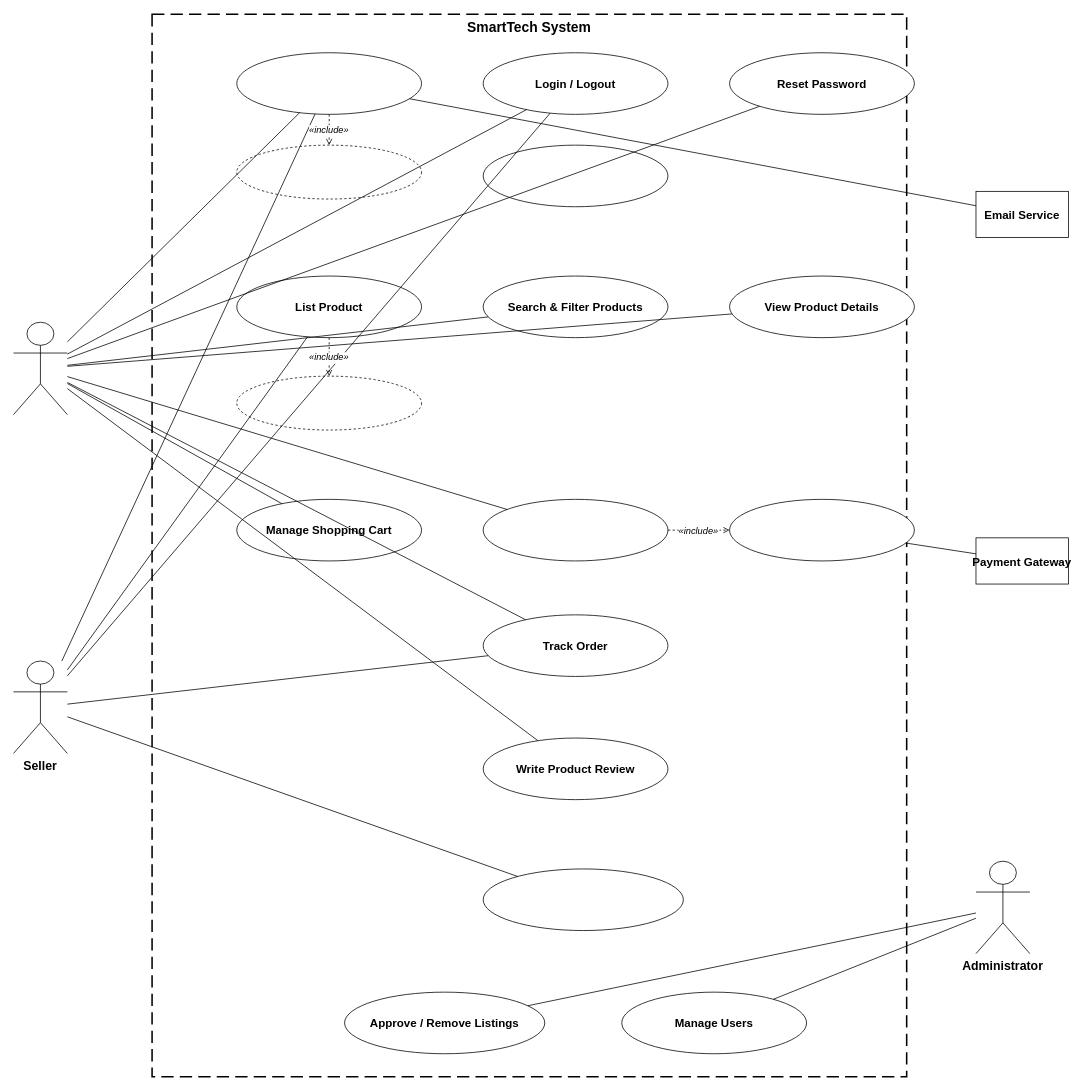
The diagram is 1086 pixels wide and 1090 high, and some of its shapes have lost their labels. Here are the shapes that lost their labels. From the top down, the centre of each, then its label:
At (x=329, y=83): "Register Account".
At (x=329, y=171): "Verify Email".
At (x=575, y=175): "Manage Profile".
At (x=40, y=368): "Buyer".
At (x=329, y=402): "Upload Product Images".
At (x=575, y=530): "Checkout & Place Order".
At (x=821, y=530): "Process Payment".
At (x=582, y=899): "Manage Seller Dashboard".
